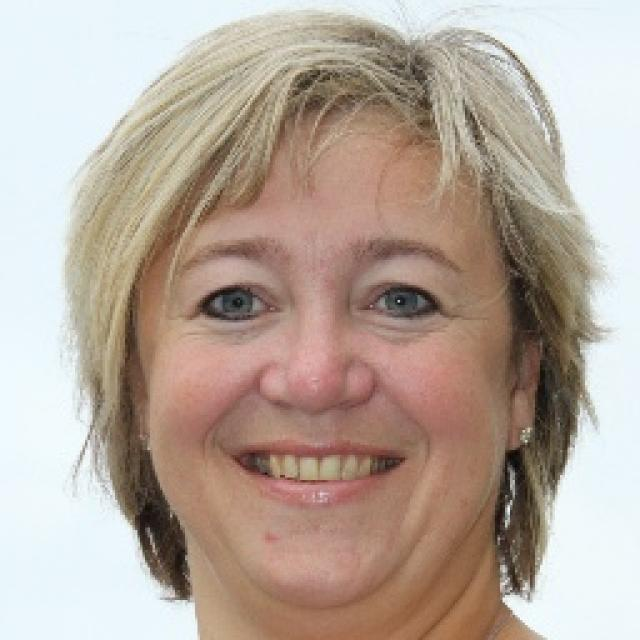earlobe: (506, 325, 543, 449)
